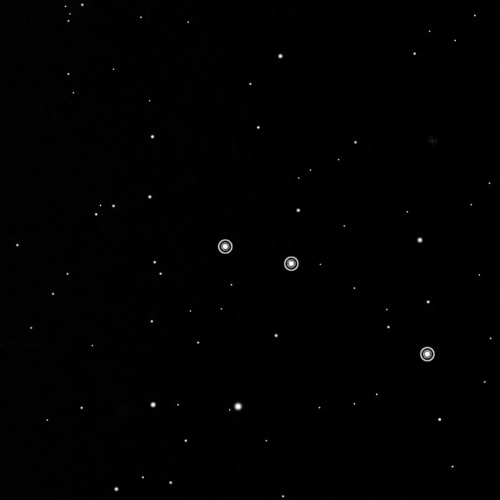vulpecula: (214, 232, 437, 366)
